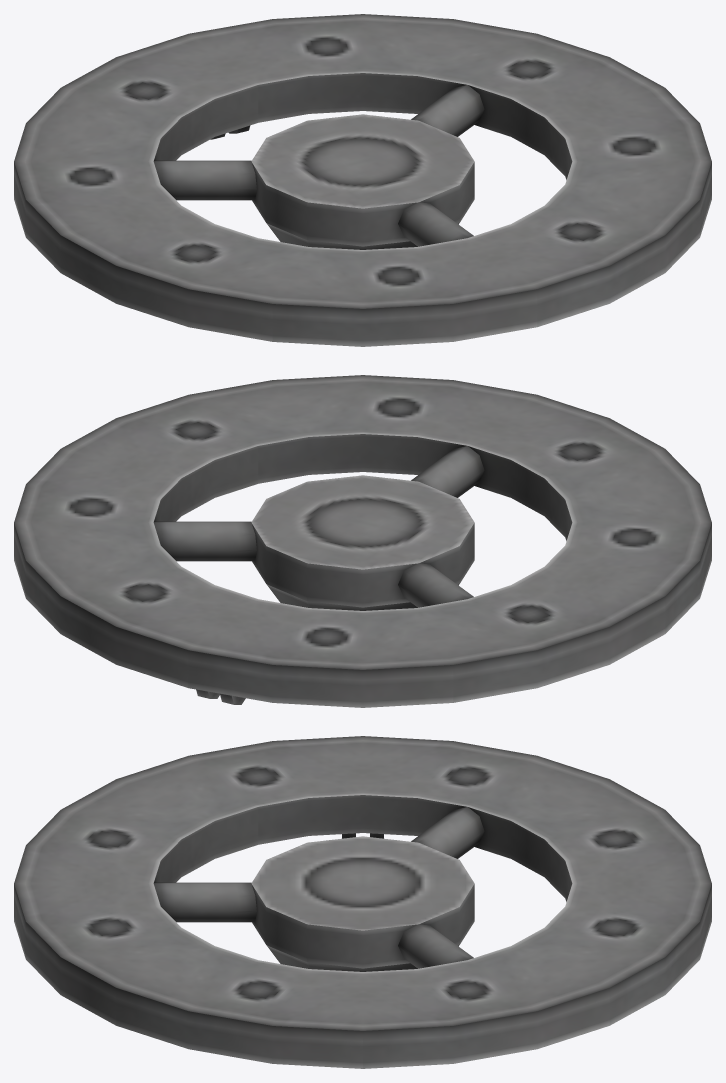
3 views of the same model, one above another, from view 1: azimuth 30°, elevation 25°; view 2: azimuth 150°, elevation 25°; view 3: azimuth 270°, elevation 25° (orthographic).
Parts seen in each view (by area): view 1: base; view 2: base; view 3: base.
Part boxes in pixels (left/top/right/bottom): base: left=14, top=14, right=711, bottom=346; base: left=14, top=375, right=711, bottom=707; base: left=14, top=736, right=711, bottom=1068.
Size of the model in its own units: 0.625 by 0.075 by 0.625.
1 material, 1 textured.
